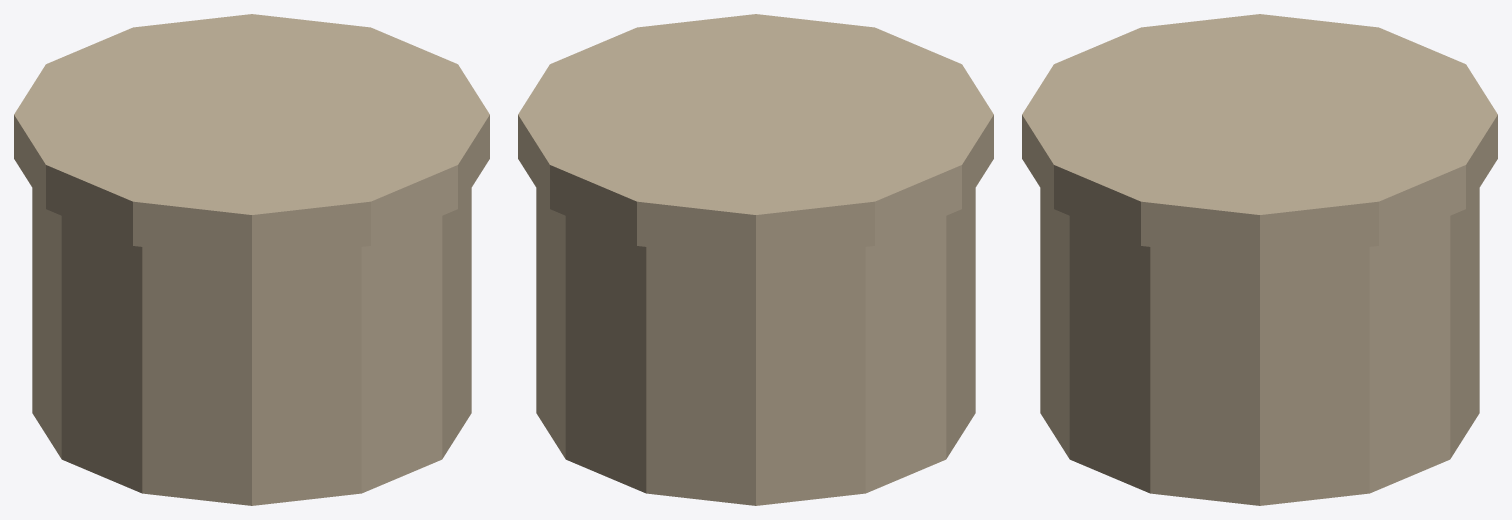
The model's file is sub_cesta.glb.
3 views of the same model, side by side, from view 1: azimuth 30°, elevation 25°; view 2: azimuth 150°, elevation 25°; view 3: azimuth 270°, elevation 25° (orthographic).
Visible parts, largest first — view 1: SUB_Cesta_v01; view 2: SUB_Cesta_v01; view 3: SUB_Cesta_v01.
Boxes of the visible parts, left/top/right/bottom form: SUB_Cesta_v01: left=14, top=14, right=489, bottom=505; SUB_Cesta_v01: left=518, top=14, right=993, bottom=505; SUB_Cesta_v01: left=1022, top=14, right=1497, bottom=505.
Size of the model in its own units: 0.39 by 0.27 by 0.39.
